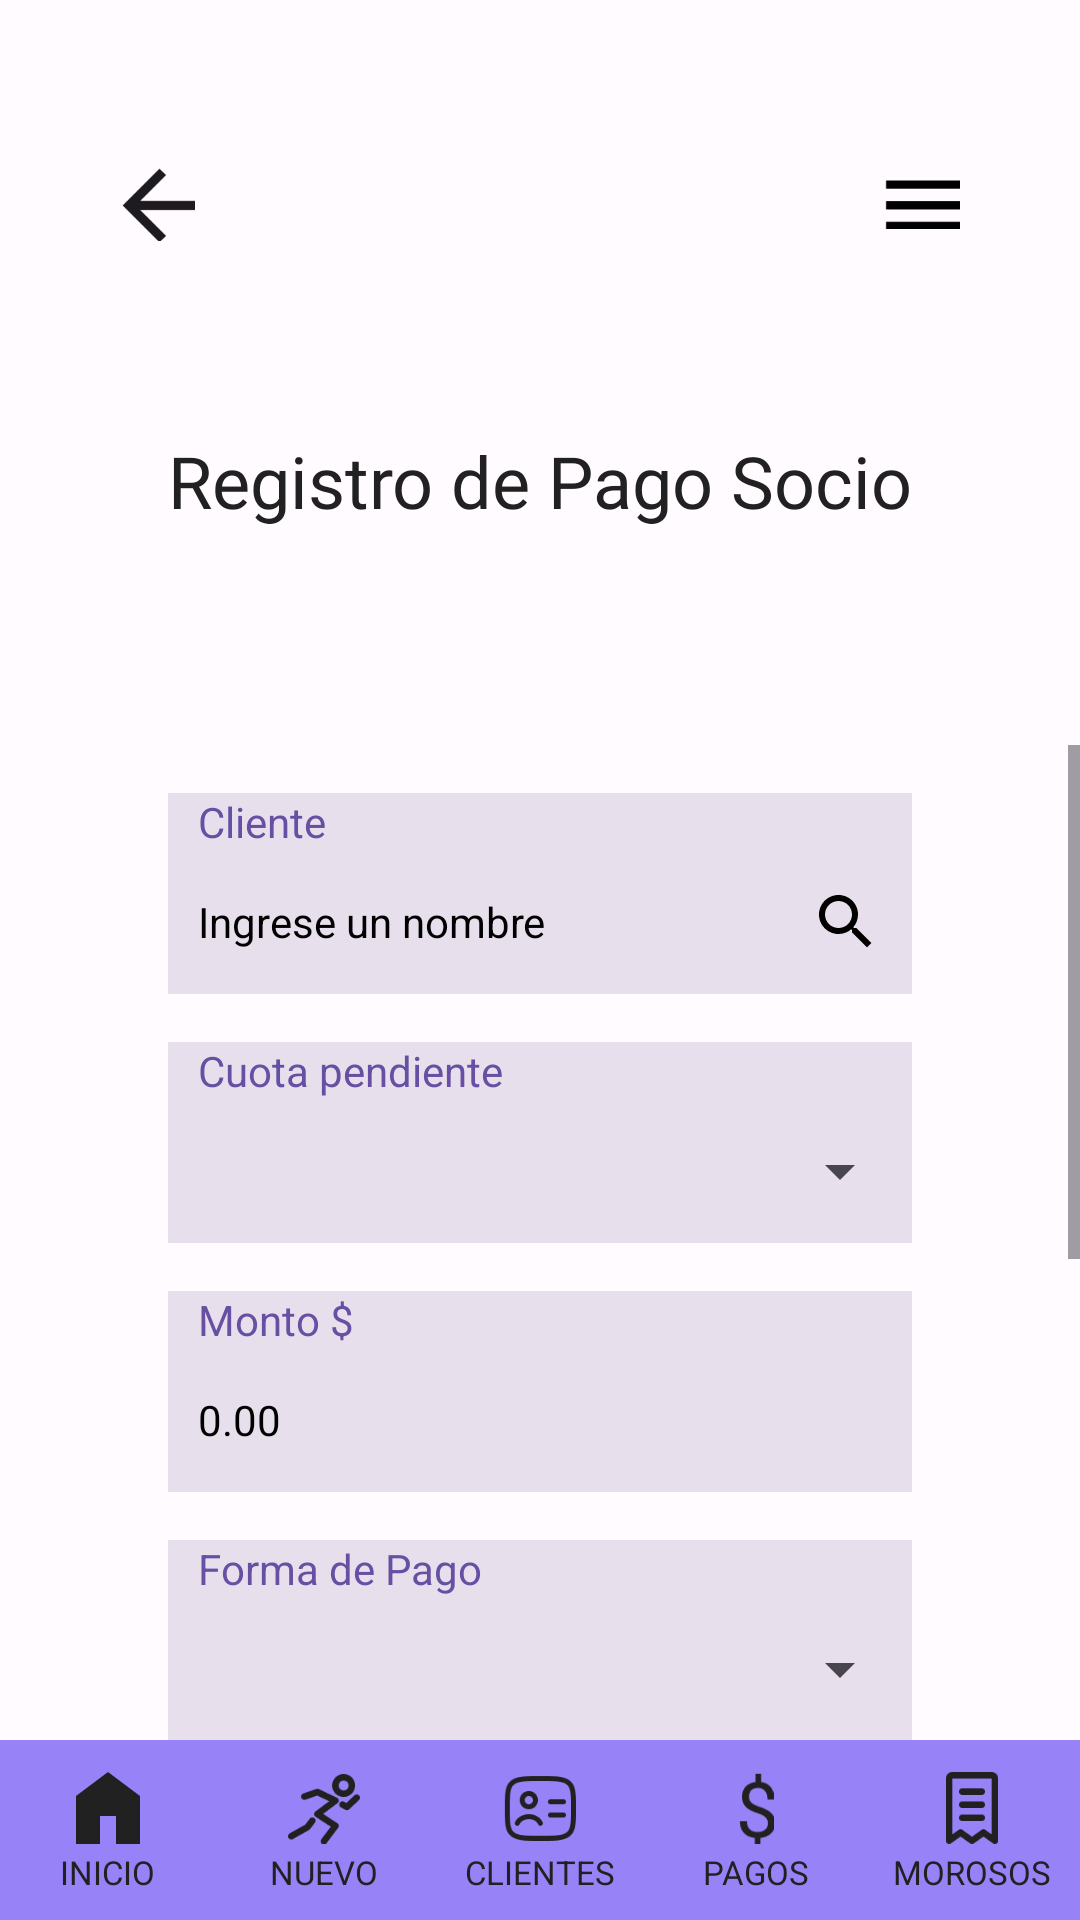

Named icons in this screenshot (1080px x 1920px) and their centers, (x,y):
Menú: (922,204)
Volver: (158,204)
